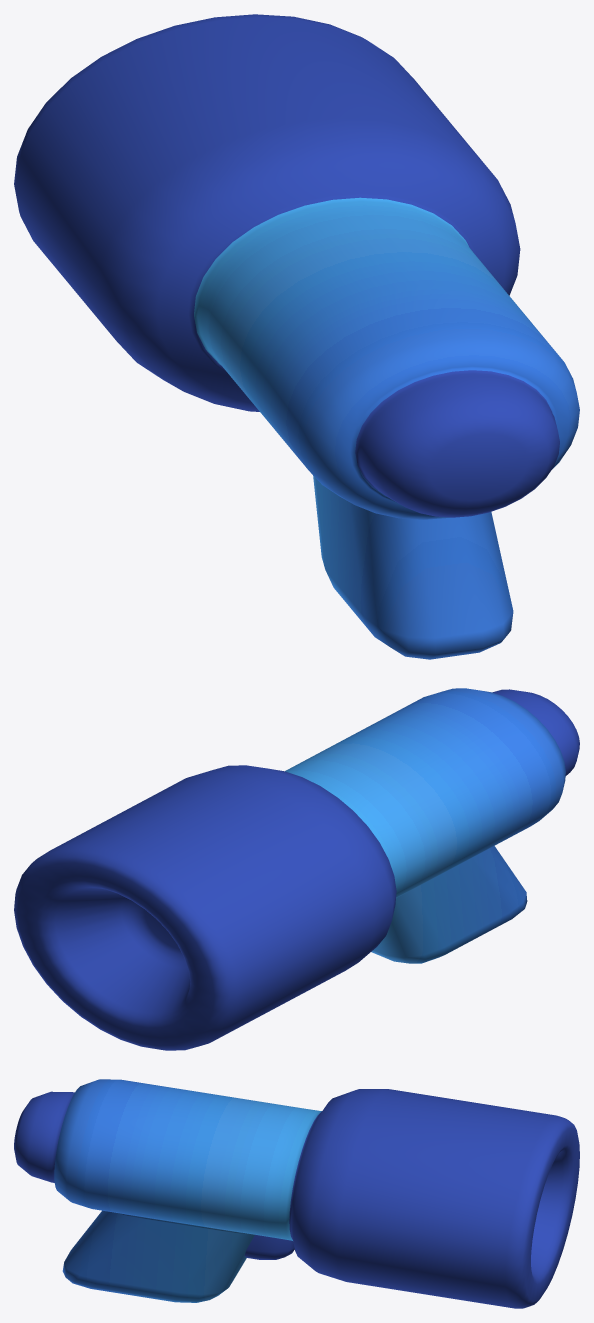
Rendered from player.glb.
The picture shows the model from 3 angles, top to bottom: view 1: azimuth 30°, elevation 25°; view 2: azimuth 150°, elevation 25°; view 3: azimuth 270°, elevation 25°; orthographic projection. The views are drawn at different scales.
Visible parts, largest first — view 1: BlueGun; view 2: BlueGun; view 3: BlueGun.
Part boxes in pixels (x1=…): BlueGun: x1=14, y1=14, x2=579, y2=659; BlueGun: x1=14, y1=688, x2=579, y2=1050; BlueGun: x1=14, y1=1079, x2=579, y2=1308.
Size of the model in its own units: 0.5055 by 0.3663 by 0.9115.
1 material, 1 textured.
